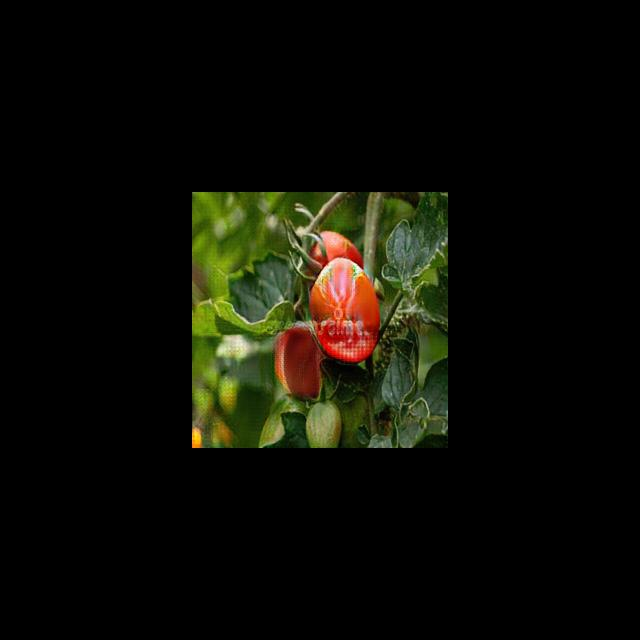tomato: (308, 257, 381, 364)
